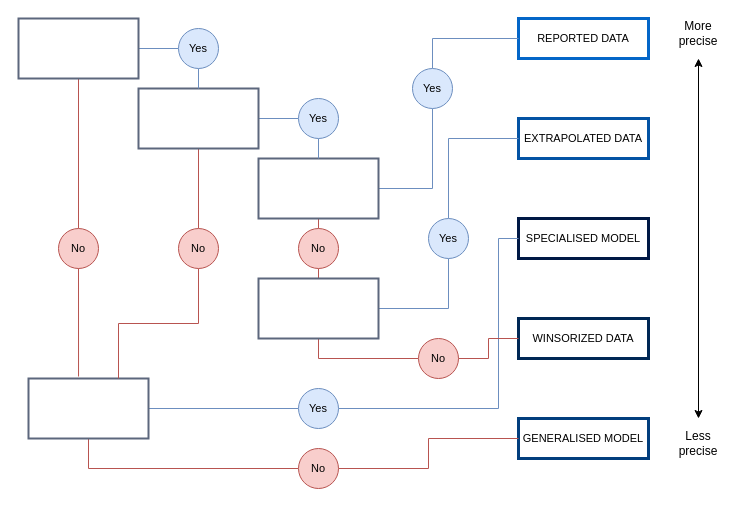
Image size: 745x506. Some labels were removed from this diagram. Each missing label, with the centre of its shape:
"Available for one of the two previous years?" goes at pixel 318 308.
"Can the specialised models be applied?" goes at pixel 88 408.
"Does the company disclose S3 emissions?" goes at pixel 78 48.
"Does the disclosure meet materiality standards?" goes at pixel 198 118.
"Does the disclosure meet quality standards?" goes at pixel 318 188.
